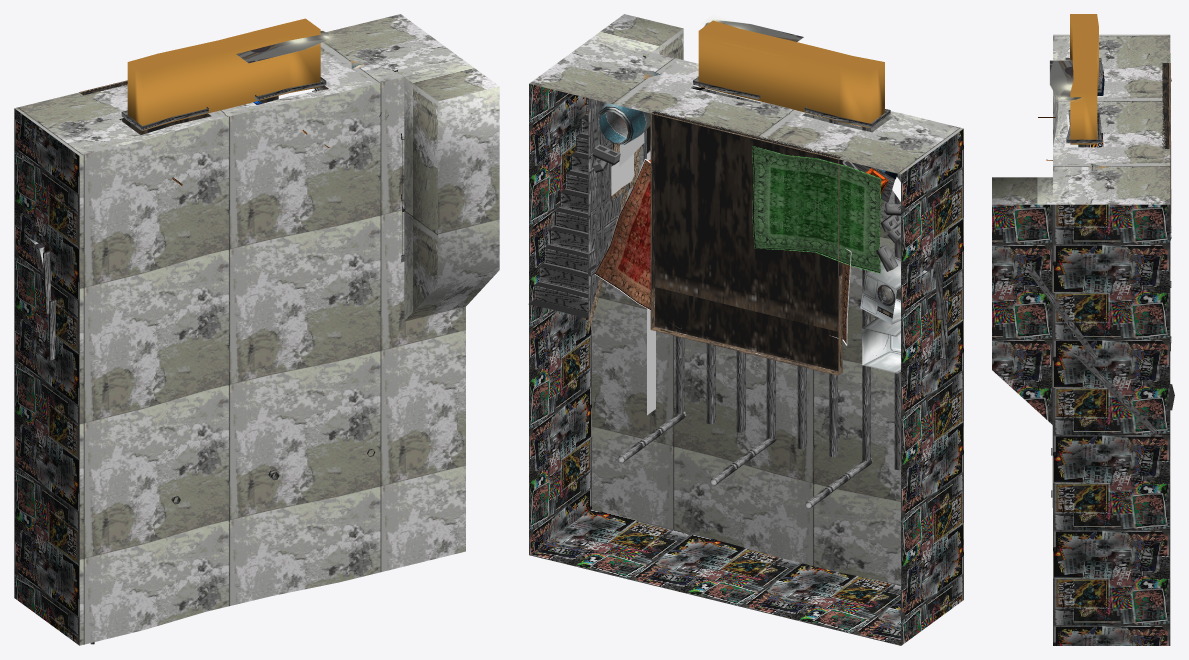
Rendered from gh1p_basement.glb.
3 renders of one model, left to right at view 1: azimuth 30°, elevation 25°; view 2: azimuth 150°, elevation 25°; view 3: azimuth 270°, elevation 25°, orthographic. The views are drawn at different scales.
Parts seen in each view (by area): view 1: basement.mesh; view 2: basement.mesh; view 3: basement.mesh.
Part boxes in pixels (<box>): basement.mesh: <box>14,14,499,645</box>; basement.mesh: <box>528,14,963,645</box>; basement.mesh: <box>992,14,1174,645</box>.
Size of the model in its own units: 418 by 562 by 187.
35 materials, 25 textured.
